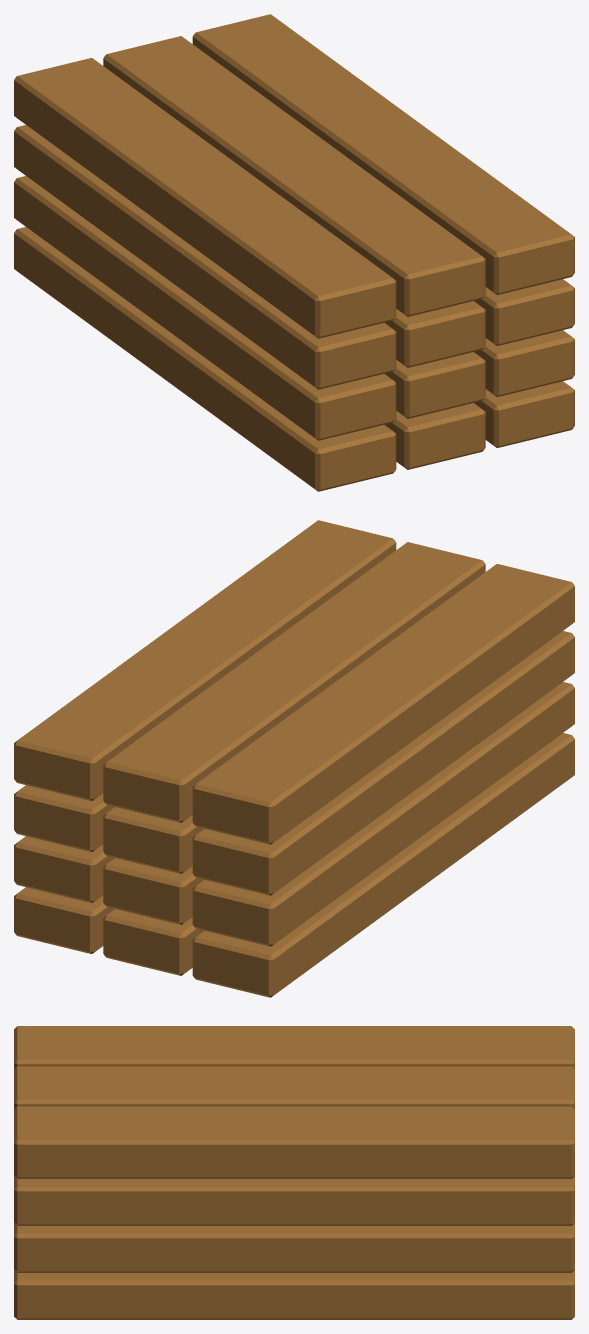
Rendered from LumberStack.fbx.
The picture shows the model from 3 angles, top to bottom: view 1: azimuth 30°, elevation 25°; view 2: azimuth 150°, elevation 25°; view 3: azimuth 270°, elevation 25°; orthographic projection. The views are drawn at different scales.
Visible parts, largest first — view 1: LumberStack_Export; view 2: LumberStack_Export; view 3: LumberStack_Export.
Part boxes in pixels (<box>): LumberStack_Export: <box>14,14,574,491</box>; LumberStack_Export: <box>14,520,574,997</box>; LumberStack_Export: <box>14,1026,574,1319</box>.
Bounding box in the file's own units: 0.64 × 0.46 × 1.3.
